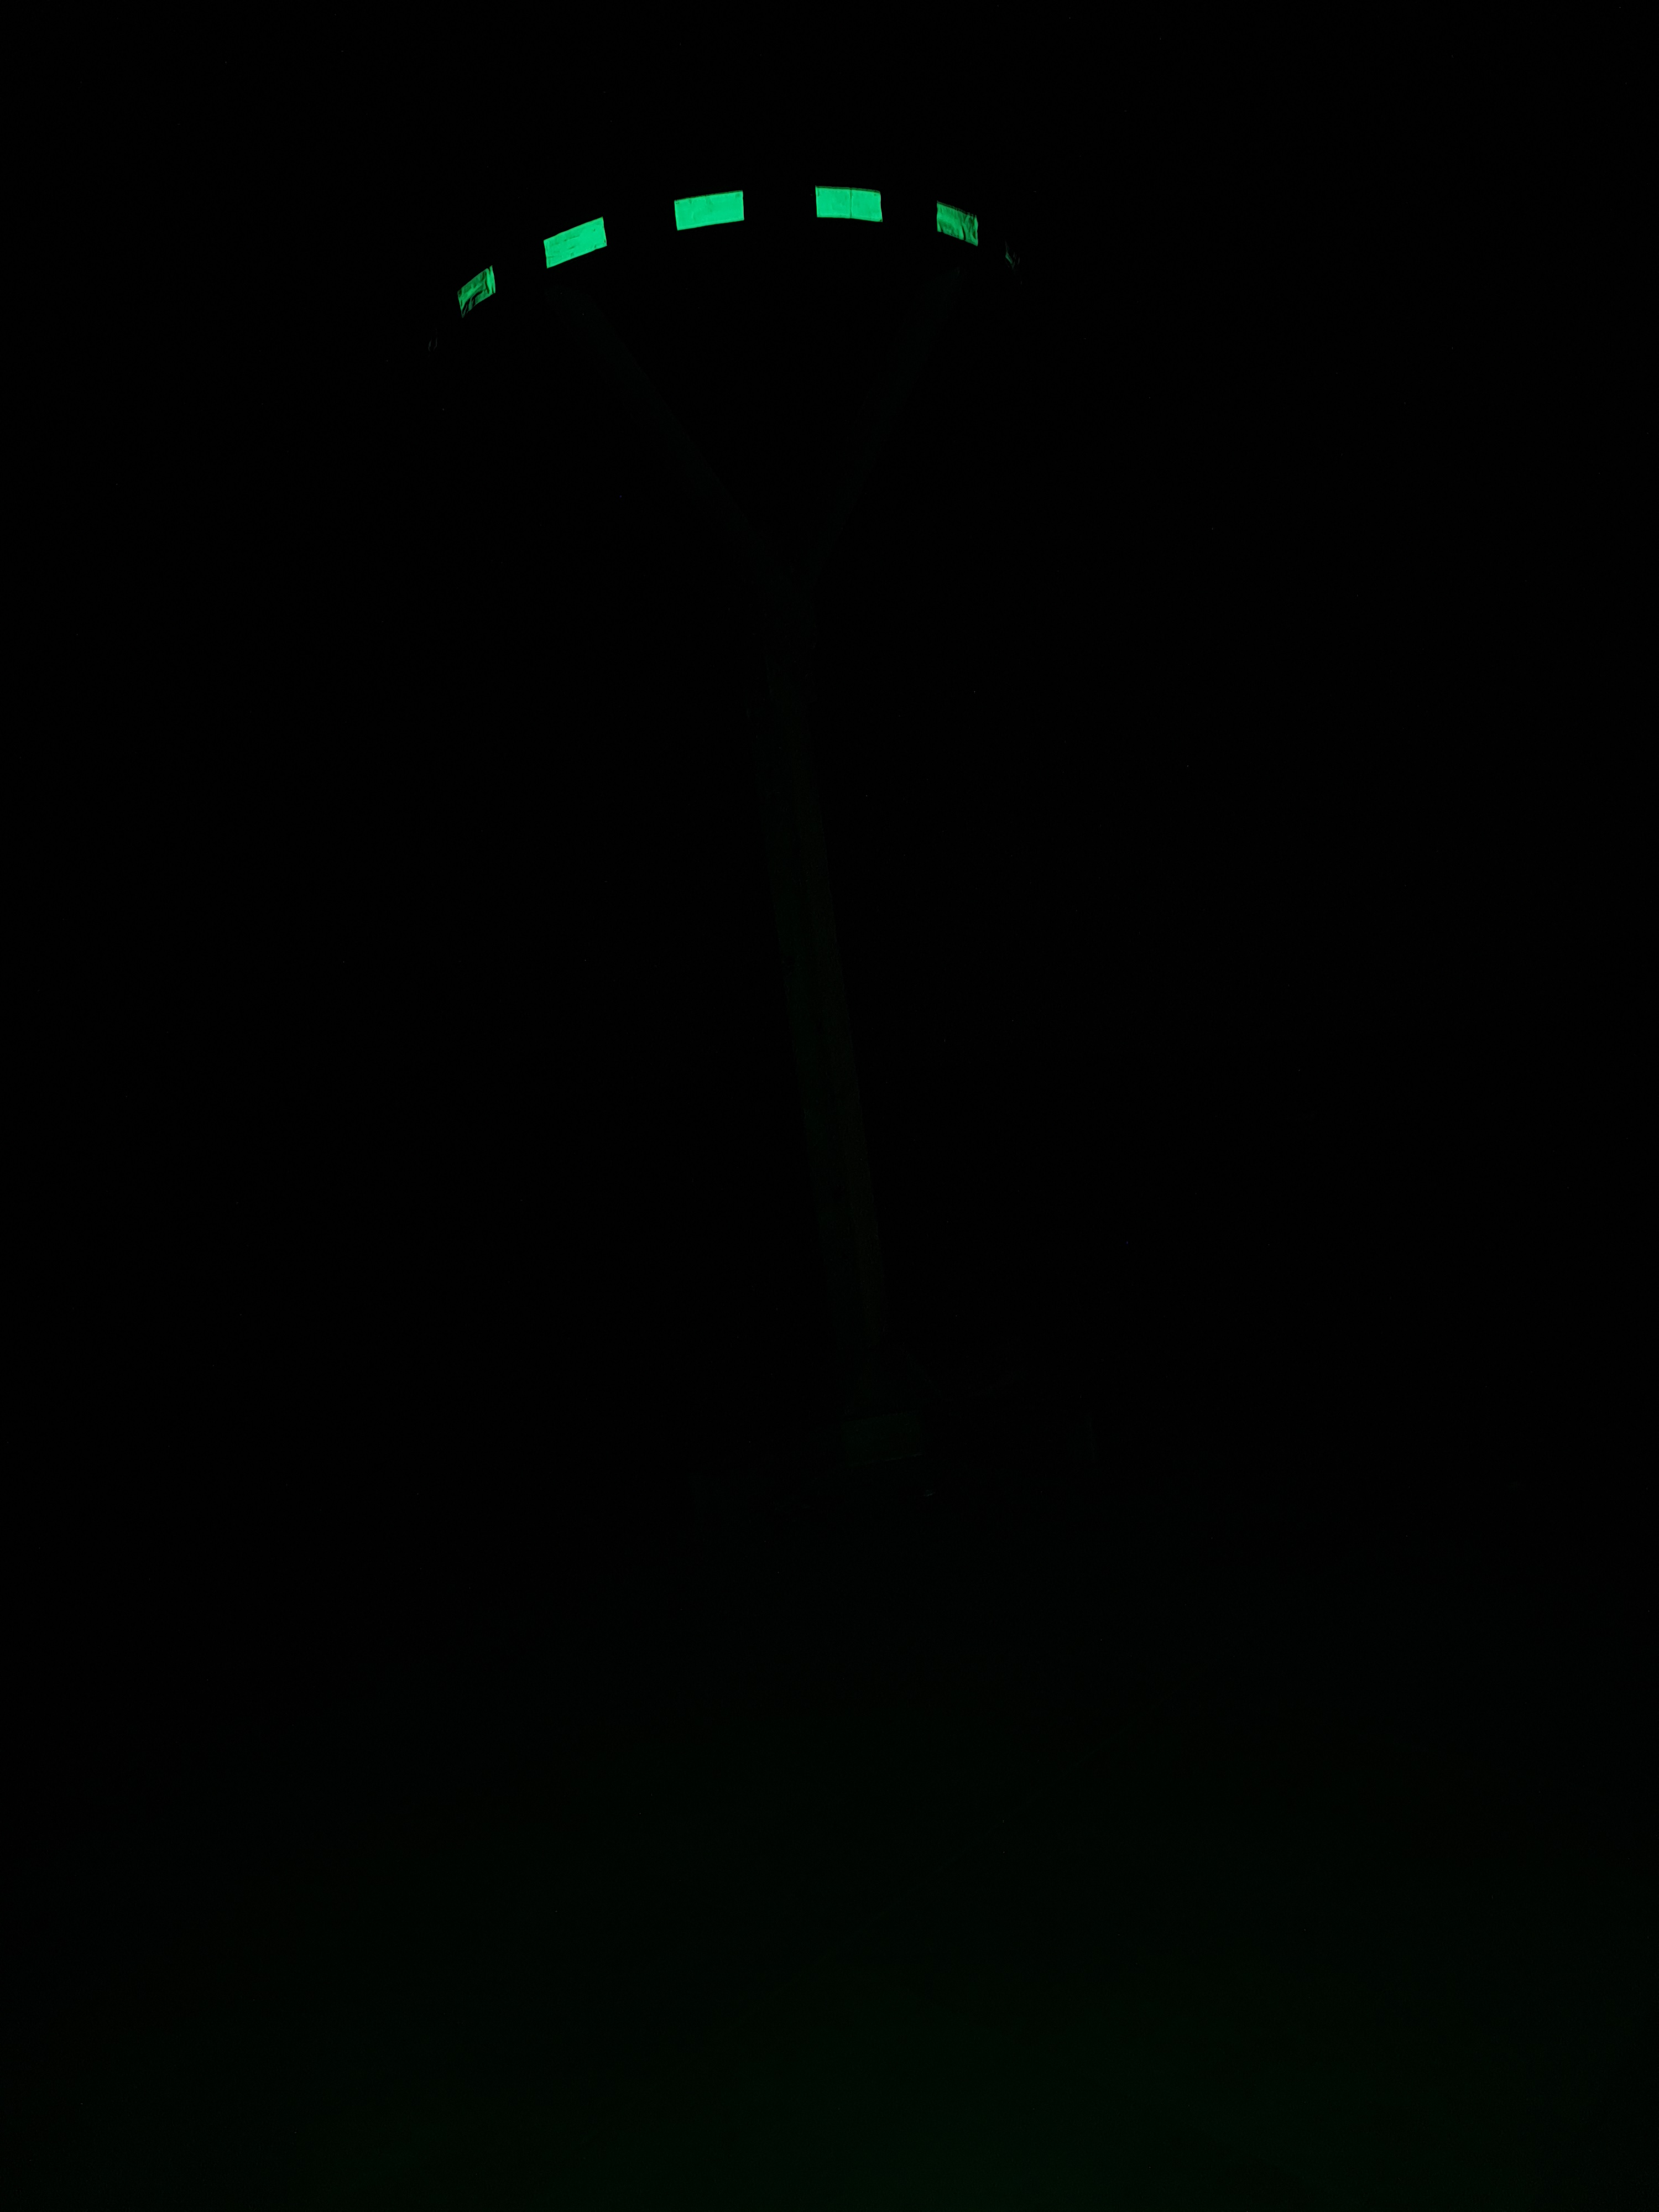hoop: (457, 186, 983, 319)
